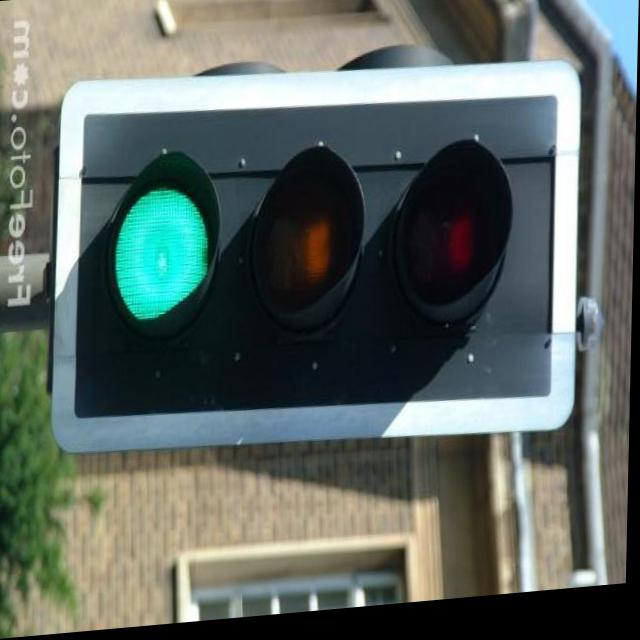green light: (86, 92, 557, 430)
